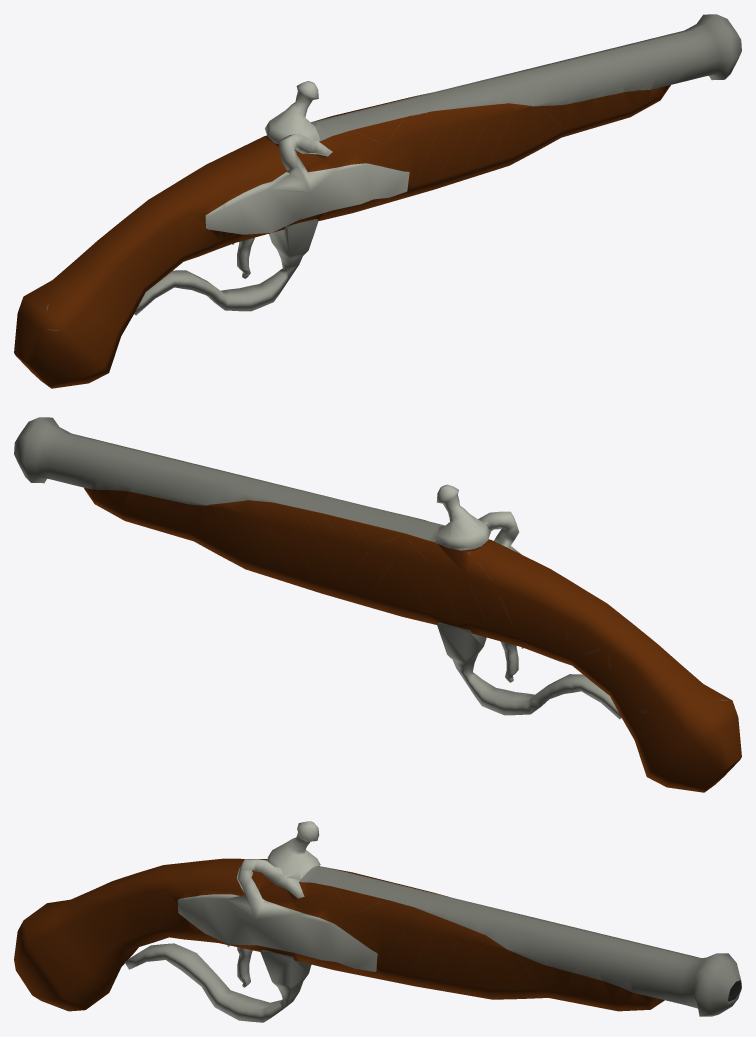
File: pistol.fbx
3 views of the same model, one above another, from view 1: azimuth 30°, elevation 25°; view 2: azimuth 150°, elevation 25°; view 3: azimuth 330°, elevation 25° (orthographic).
Visible parts, largest first — view 1: unamed; view 2: unamed; view 3: unamed.
Part boxes in pixels (x1,y1,x2,y2): unamed: (14,14,741,388); unamed: (14,417,741,792); unamed: (14,821,741,1022).
Size of the model in its own units: 2.34 by 0.7459 by 0.2696.
1 material, 1 textured.
